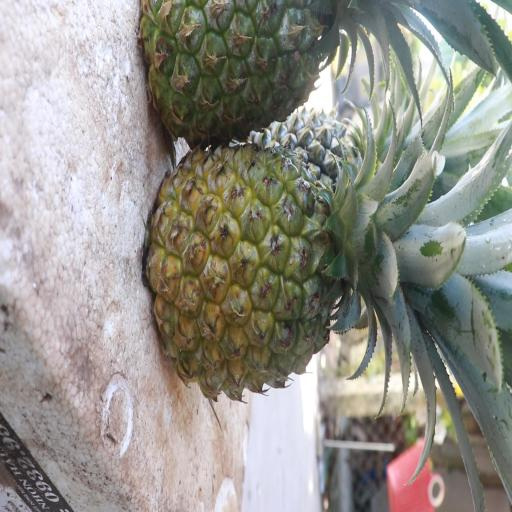------------------------------: (136, 0, 425, 136)
Pineapple - v8 v1: (152, 137, 414, 395)
